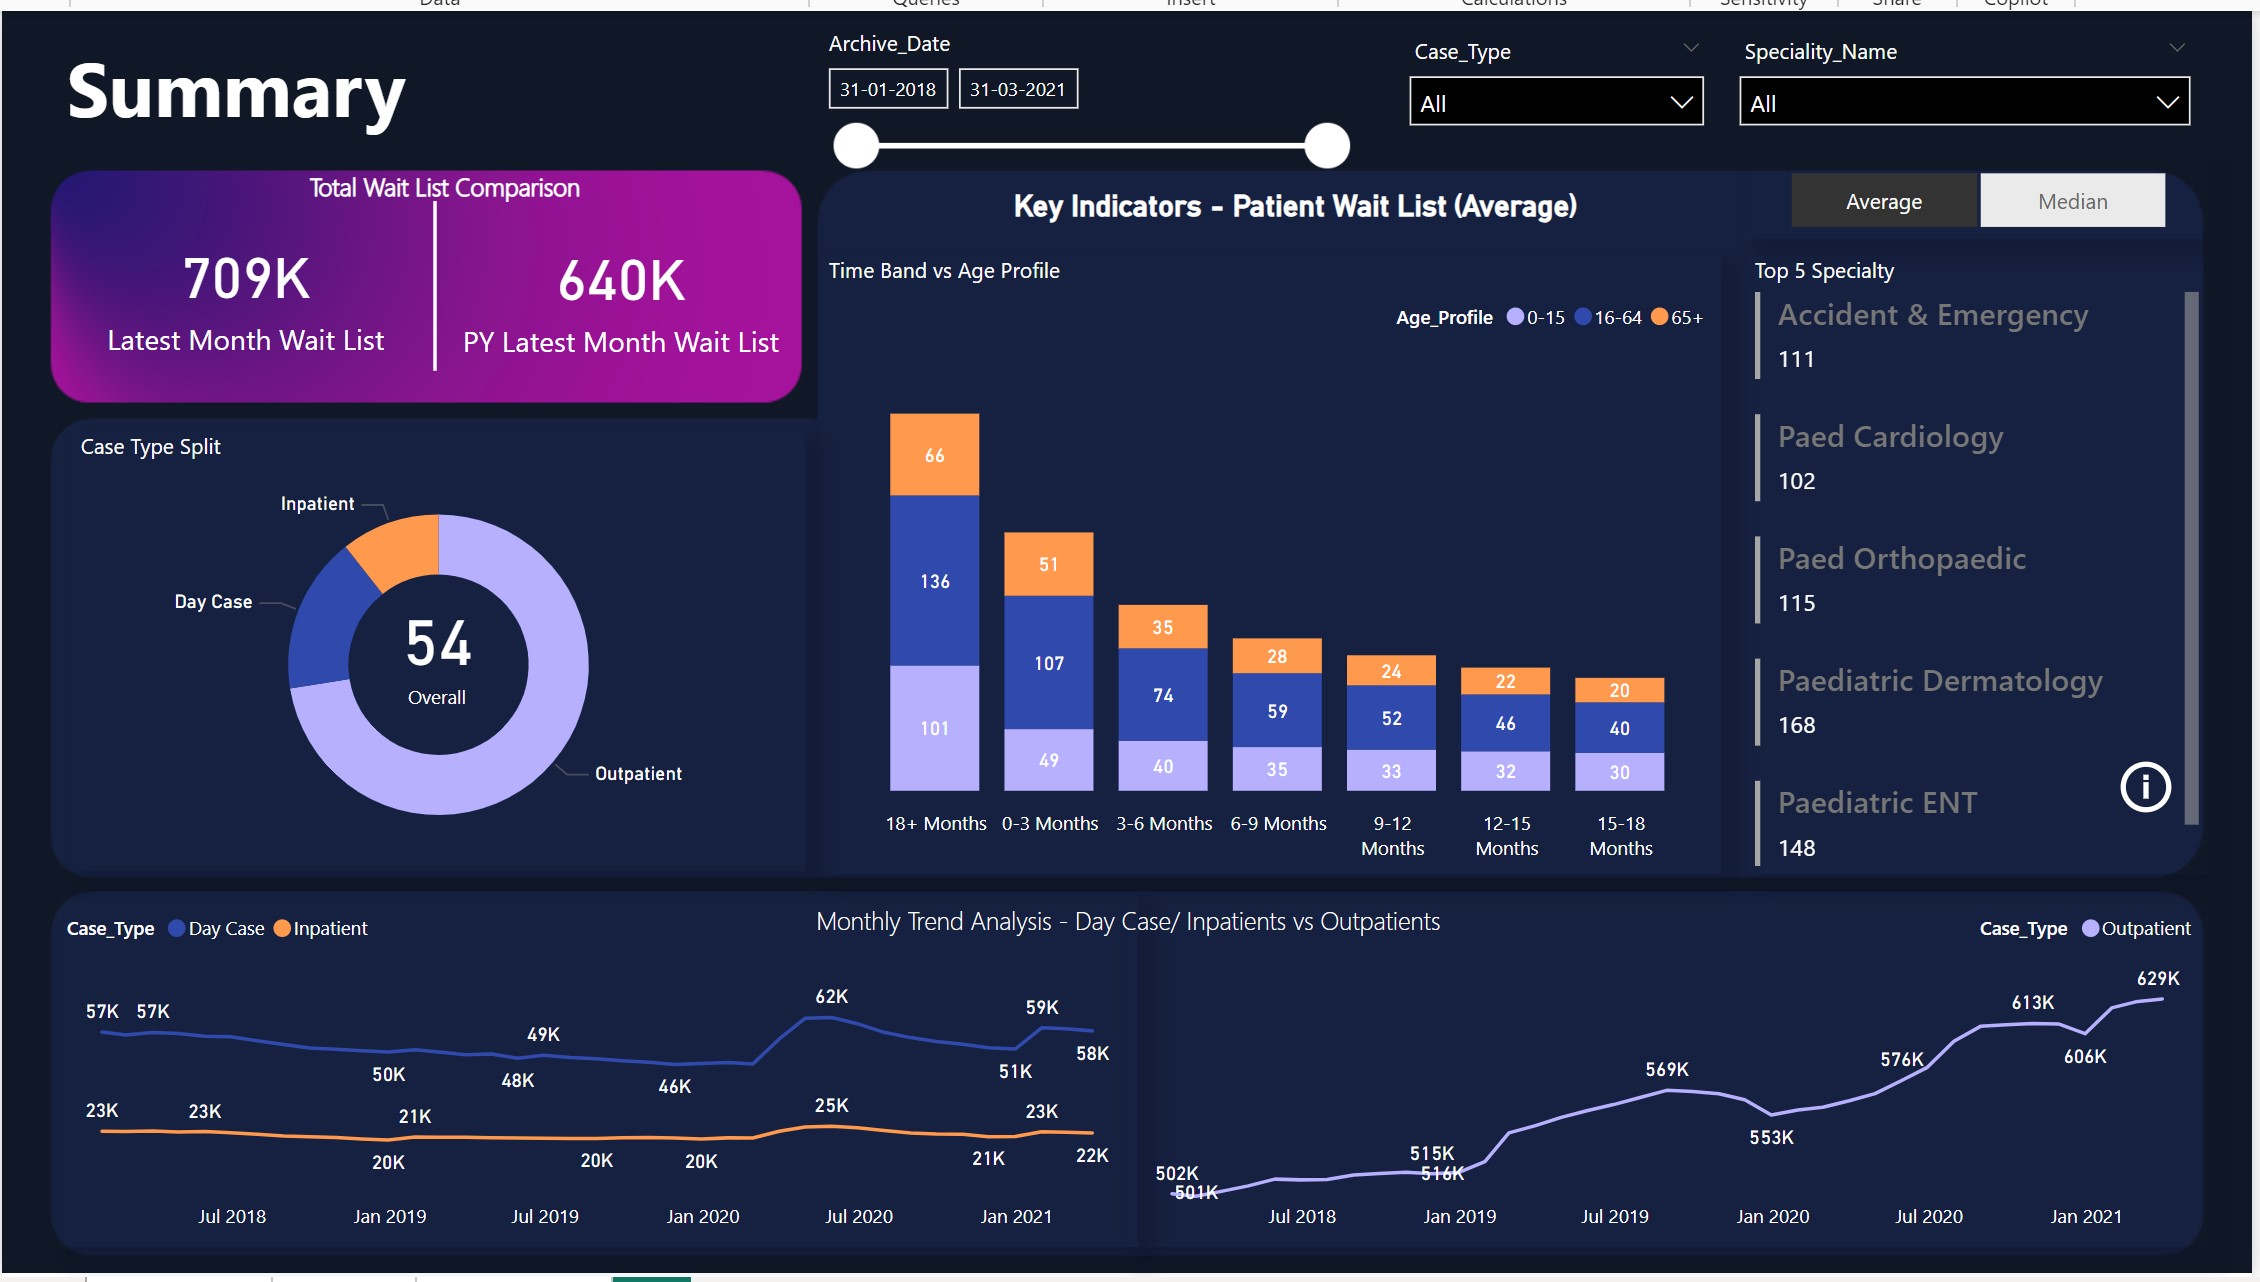

The page's visual inventory and layout, read from the dashboard file:
{"tool":"powerbi","page":{"name":"Summary","canvas":[1280,720],"ordinal":0},"visuals":[{"type":"card","fields":{"Values":["All_Data.Latest Month Wait List"]},"box":[39.5,105.8,197.6,108.4],"z":0},{"type":"card","fields":{"Values":["All_Data.PY Latest Month Wait List"]},"box":[257.5,108.4,190,105.8],"z":1000},{"type":"slicer","fields":{"Values":["Calculation_Table.Calc_Method"]},"box":[991.9,85.4,262.6,44.6],"z":2000},{"type":"donutChart","title":"Case Type Split","fields":{"Category":["All_Data.Case_Type"],"Y":["All_Data.Avg/Med Wait List"]},"box":[39.5,238.4,416.9,249.9],"z":3000},{"type":"columnChart","title":"Time Band vs Age Profile","fields":{"Y":["All_Data.Avg/Med Wait List"],"Series":["All_Data.Age_Profile"],"Category":["All_Data.Time_Bands"]},"box":[465.3,139,512.5,351.9],"z":4000},{"type":"multiRowCard","title":"Top 5 Specialty","fields":{"Values":["All_Data.Speciality_Name","All_Data.Avg/Med Wait List"]},"box":[991.9,139,262.6,351.9],"z":5000},{"type":"card","fields":{"Values":["All_Data.No_Data_Left"]},"box":[161.6,570.4,388.9,114.8],"z":6000},{"type":"lineChart","fields":{"Category":["All_Data.Archive_Date"],"Y":["Sum(All_Data.Total)"],"Series":["All_Data.Case_Type"]},"box":[31.8,502.7,614.2,200.2],"z":7000},{"type":"card","fields":{"Values":["All_Data.No_Data_Right"]},"box":[753.3,569.6,388.9,114.8],"z":8000},{"type":"lineChart","fields":{"Category":["All_Data.Archive_Date"],"Y":["Sum(All_Data.Total)"],"Series":["All_Data.Case_Type"]},"box":[640.4,502.7,614.2,200.2],"z":9000},{"type":"slicer","fields":{"Values":["All_Data.Archive_Date"]},"box":[457.3,4.5,317.3,86.4],"z":10000},{"type":"slicer","fields":{"Values":["All_Data.Case_Type"]},"box":[790.5,9.1,187.7,76.2],"z":11000},{"type":"slicer","fields":{"Values":["All_Data.Speciality_Name"]},"box":[978.2,9.1,276.4,83],"z":12000},{"type":"textbox","box":[31.8,9.1,216.1,76.2],"z":13000},{"type":"card","title":"Overall","fields":{"Values":["All_Data.Avg/Med Wait List"]},"box":[194.5,315.1,105.8,95.5],"z":14000},{"type":"shape","box":[240,108.1,12.5,96.7],"z":15000},{"type":"textbox","box":[102.4,85.3,299.1,28.4],"z":16000},{"type":"textbox","box":[401.6,502.3,478.1,38.2],"z":17000},{"type":"card","title":"Overall","fields":{"Values":["All_Data.Dynamic Title"]},"box":[465.3,91.8,540.6,38.2],"z":18000},{"type":"actionButton","box":[1200,422,43.2,38.7],"z":19000}]}

Visuals, with their boxes on the page's 1280x720 design canvas (x1, y1, x2, y2). These are canvas units, not pixel positions in the 2260x1282 screenshot, which may show the page scaled, cropped or inside an application window:
card - All_Data.Latest Month Wait List: {"left": 40, "top": 106, "right": 237, "bottom": 214}
card - All_Data.PY Latest Month Wait List: {"left": 258, "top": 108, "right": 448, "bottom": 214}
slicer - Calculation_Table.Calc_Method: {"left": 992, "top": 85, "right": 1254, "bottom": 130}
"Case Type Split" donutChart: {"left": 40, "top": 238, "right": 456, "bottom": 488}
"Time Band vs Age Profile" columnChart: {"left": 465, "top": 139, "right": 978, "bottom": 491}
"Top 5 Specialty" multiRowCard: {"left": 992, "top": 139, "right": 1254, "bottom": 491}
card - All_Data.No_Data_Left: {"left": 162, "top": 570, "right": 550, "bottom": 685}
lineChart - All_Data.Archive_Date x Sum(All_Data.Total): {"left": 32, "top": 503, "right": 646, "bottom": 703}
card - All_Data.No_Data_Right: {"left": 753, "top": 570, "right": 1142, "bottom": 684}
lineChart - All_Data.Archive_Date x Sum(All_Data.Total): {"left": 640, "top": 503, "right": 1255, "bottom": 703}
slicer - All_Data.Archive_Date: {"left": 457, "top": 4, "right": 775, "bottom": 91}
slicer - All_Data.Case_Type: {"left": 790, "top": 9, "right": 978, "bottom": 85}
slicer - All_Data.Speciality_Name: {"left": 978, "top": 9, "right": 1255, "bottom": 92}
textbox: {"left": 32, "top": 9, "right": 248, "bottom": 85}
"Overall" card: {"left": 194, "top": 315, "right": 300, "bottom": 411}
shape: {"left": 240, "top": 108, "right": 252, "bottom": 205}
textbox: {"left": 102, "top": 85, "right": 402, "bottom": 114}
textbox: {"left": 402, "top": 502, "right": 880, "bottom": 540}
"Overall" card: {"left": 465, "top": 92, "right": 1006, "bottom": 130}
actionButton: {"left": 1200, "top": 422, "right": 1243, "bottom": 461}
